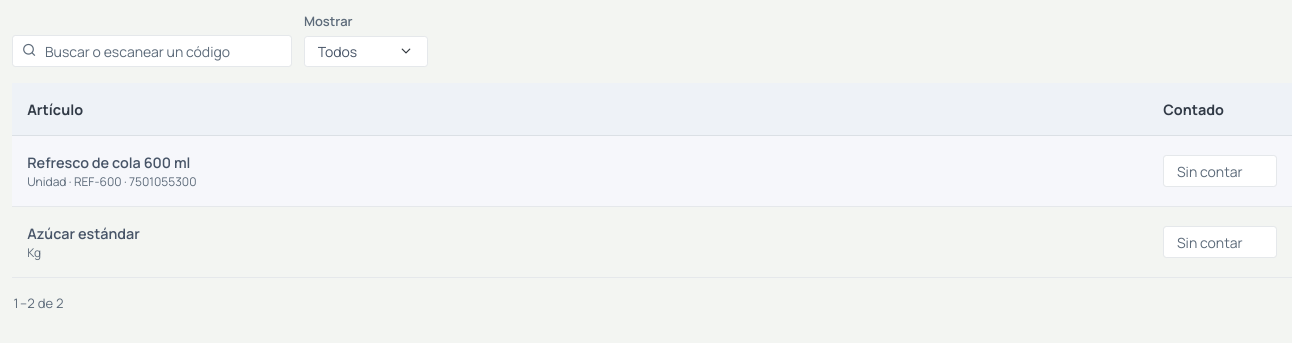
Test: CountSheet › goes to the next box with Enter, saving once
This screenshot has width=1292, height=343.
Type "22" into the field labelled "Refresco de cola 600 ml". click: (1220, 171)
box: [1163,155,1277,187]
Then press Enter
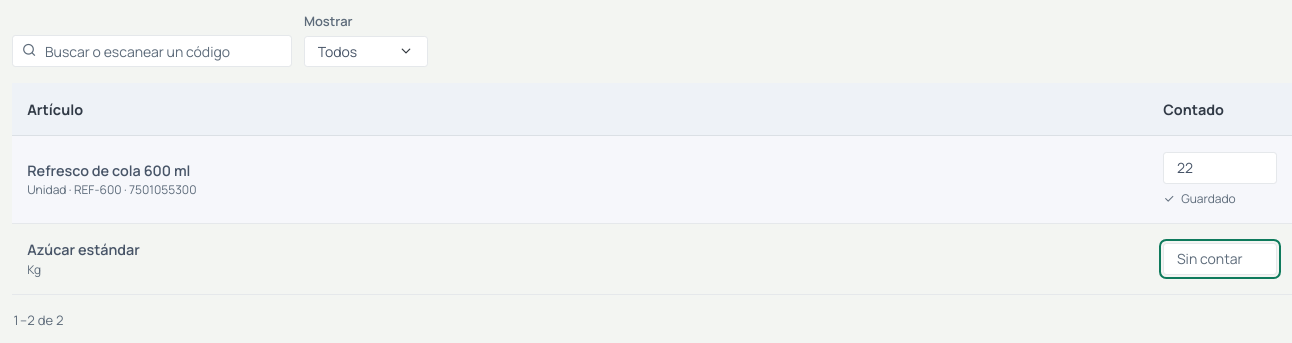
Check: the text "Guardado" is shown, box [1163,190,1236,207]
